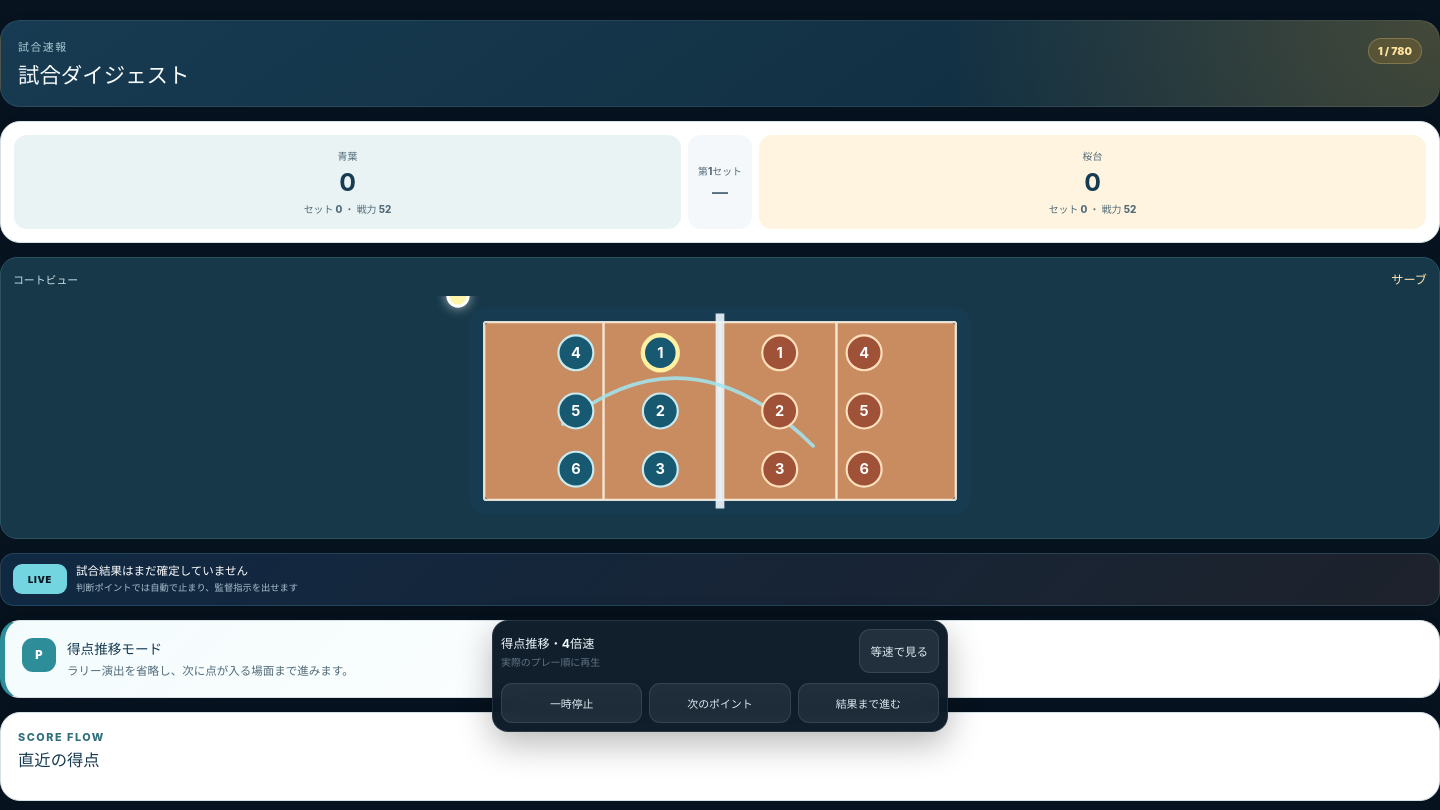
Phase16 MatchScreen authoritative playback › shows concrete before-and-after ability growth after a completed match
Click the button "結果まで進む" at (868, 703), box [798,683,939,723]
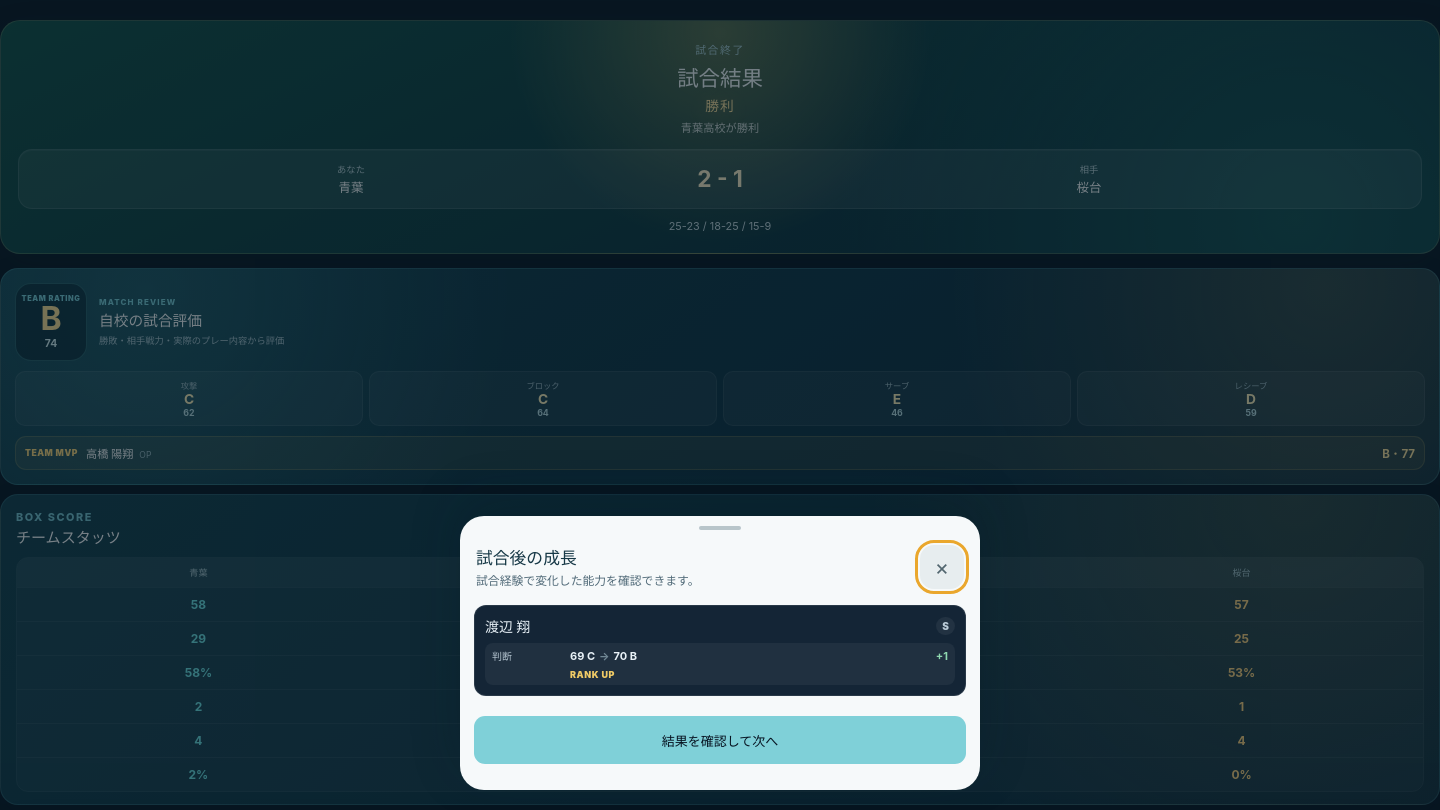
Expected: the dialog "試合後の成長" shows "渡辺", [485,618,530,635]
Expected: the dialog "試合後の成長" shows "判断", [492,650,512,662]
Expected: the dialog "試合後の成長" shows "69 C", [460,516,980,790]
